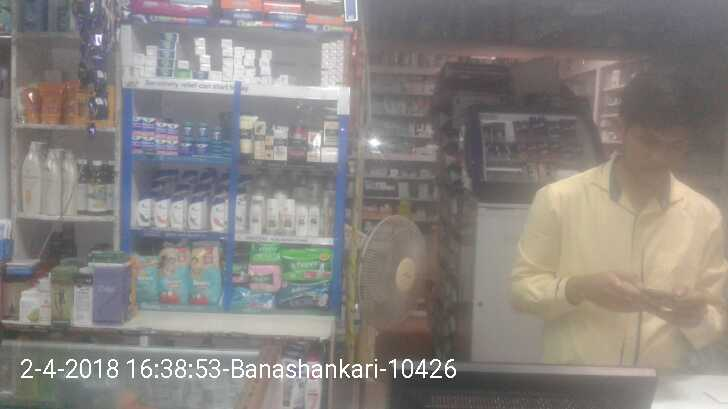vicks: (196, 120, 209, 138), (132, 116, 143, 137), (144, 119, 158, 135), (145, 140, 158, 157), (168, 123, 181, 138), (185, 120, 196, 136), (158, 122, 168, 138), (212, 127, 224, 138), (132, 139, 143, 151)
